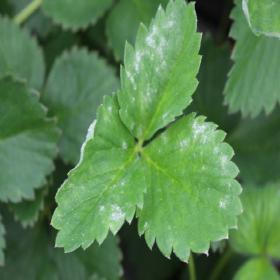Powdery Mildew Leaf: (135, 112, 244, 263), (50, 90, 146, 253), (116, 0, 203, 143), (241, 0, 279, 38)
